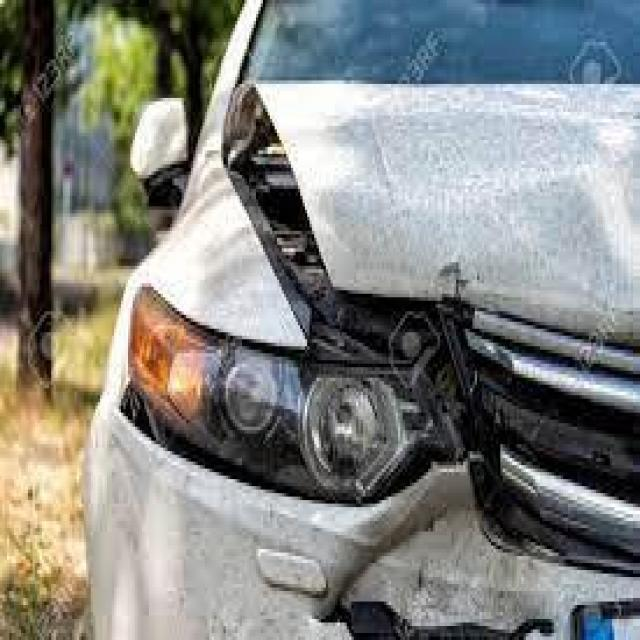damaged: (314, 346, 640, 640), (221, 84, 466, 382)
